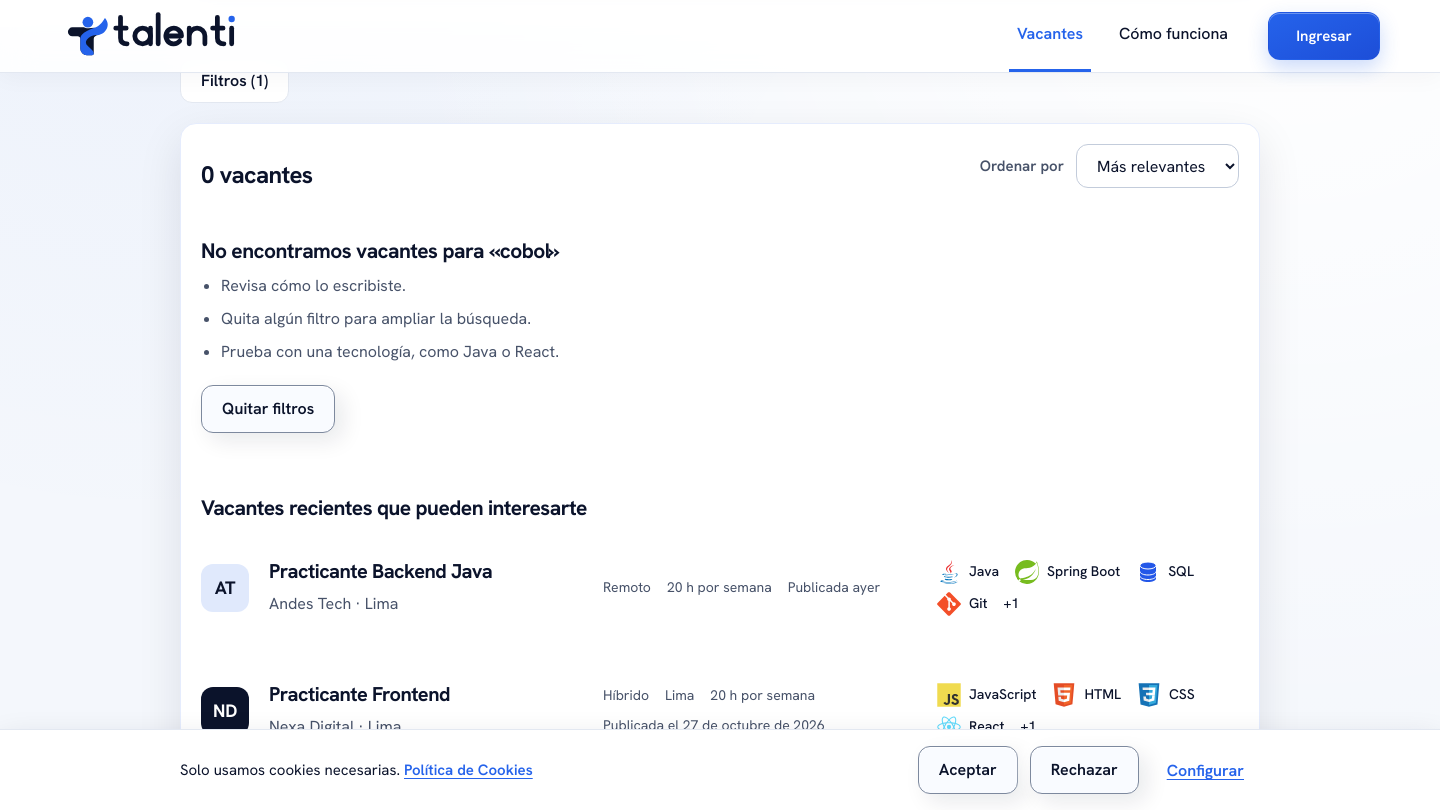
Test: Page /oportunidades: search without results (004-33) › suggests removing filters and "Quitar filtros" keeps the text (004-33)
(page scrolled)
Expected: the list named "Sugerencias" shows "Quita algún filtro para ampliar la búsqueda.", left=221, top=308, right=531, bottom=329
Click the button "Quitar filtros" at (268, 409), box left=201, top=385, right=335, bottom=433
(page scrolled)
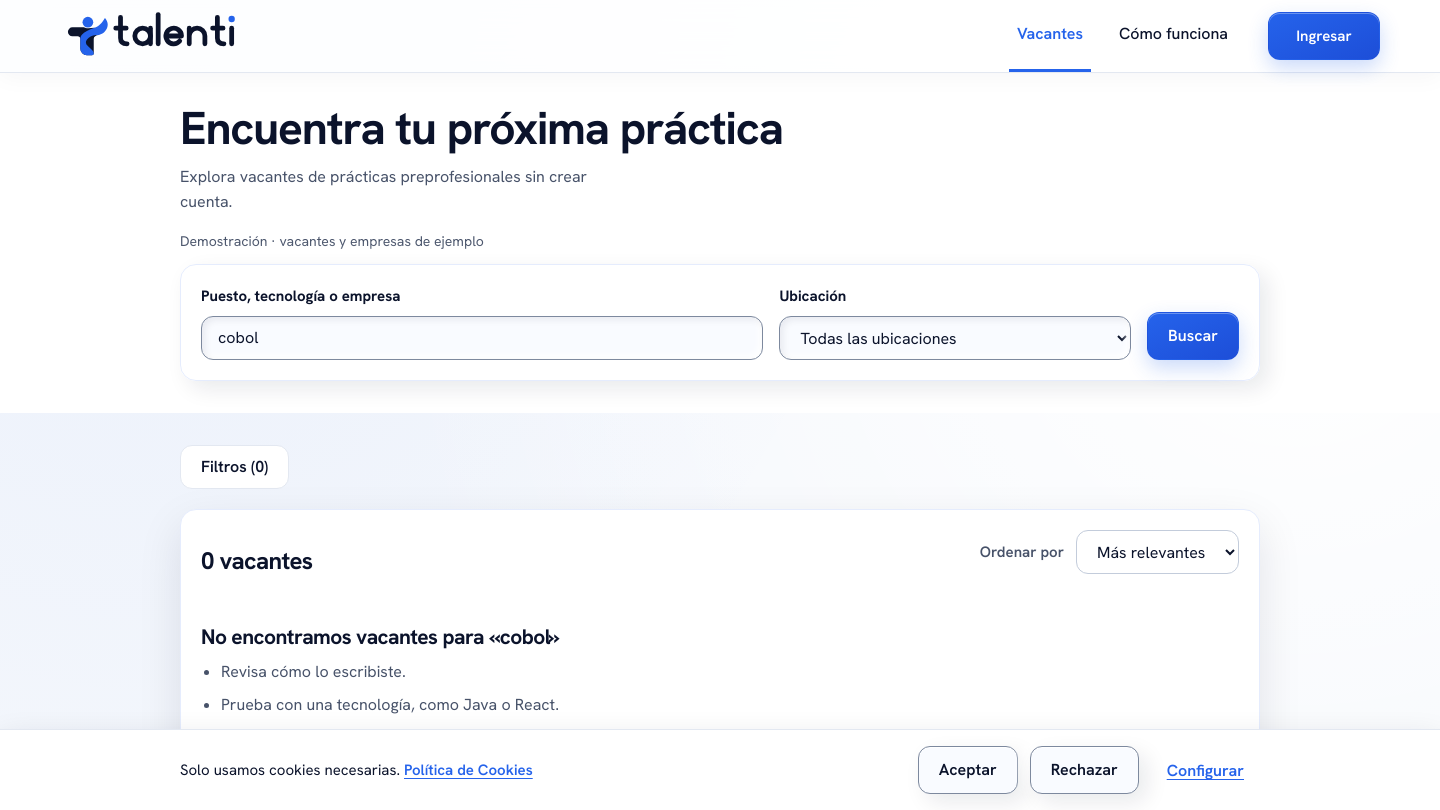
Expected: the field labelled "Puesto, tecnología o empresa" holds "cobol", left=201, top=316, right=764, bottom=360
Expected: the button "Quitar filtros" is gone
